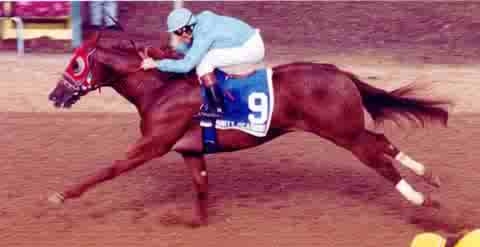person: (138, 9, 269, 120)
